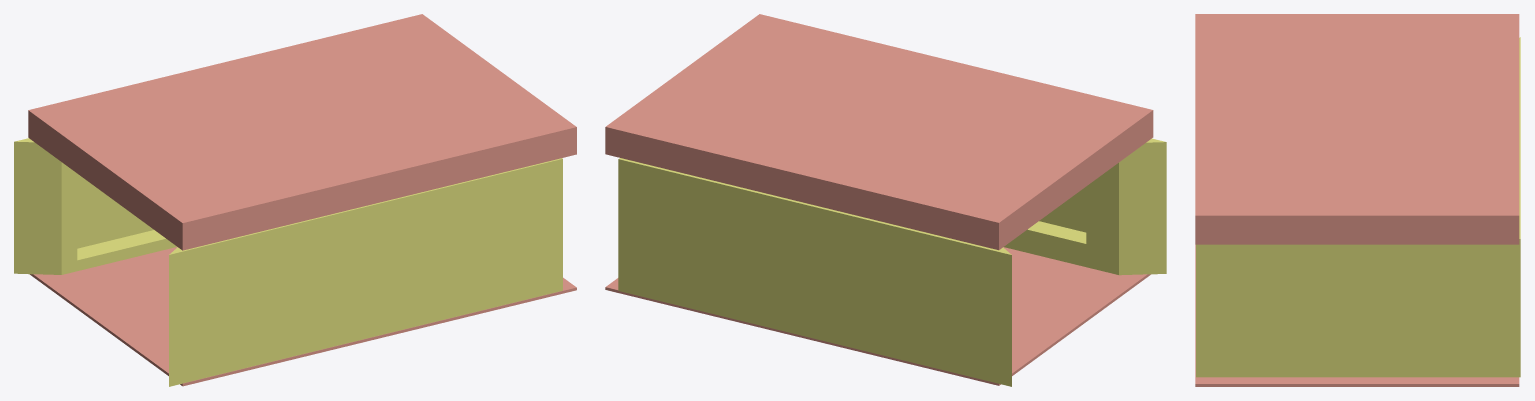
The model's file is mobile-showroom.gltf.
3 views of the same model, side by side, from view 1: azimuth 30°, elevation 25°; view 2: azimuth 150°, elevation 25°; view 3: azimuth 270°, elevation 25° (orthographic). The views are drawn at different scales.
Visible parts, largest first — view 1: Cube, wall, floor; view 2: Cube, wall, floor; view 3: Cube, wall, floor.
Part boxes in pixels (bbox=[...]): Cube: bbox=[28, 14, 576, 250]; wall: bbox=[14, 138, 562, 386]; floor: bbox=[30, 247, 576, 386]; Cube: bbox=[605, 14, 1153, 250]; wall: bbox=[618, 138, 1166, 386]; floor: bbox=[605, 247, 1150, 385]; Cube: bbox=[1195, 14, 1519, 244]; wall: bbox=[1196, 37, 1520, 377]; floor: bbox=[1195, 244, 1519, 386].
Size of the model in its own units: 25.86 by 9.89 by 17.02.
